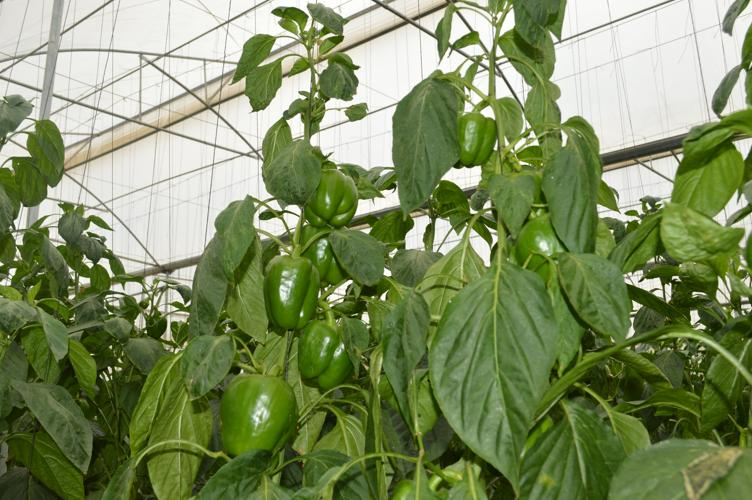BellPepper: (203, 368, 300, 462), (259, 249, 320, 335), (294, 314, 359, 387), (296, 158, 359, 230), (291, 222, 348, 280), (452, 104, 497, 174)
